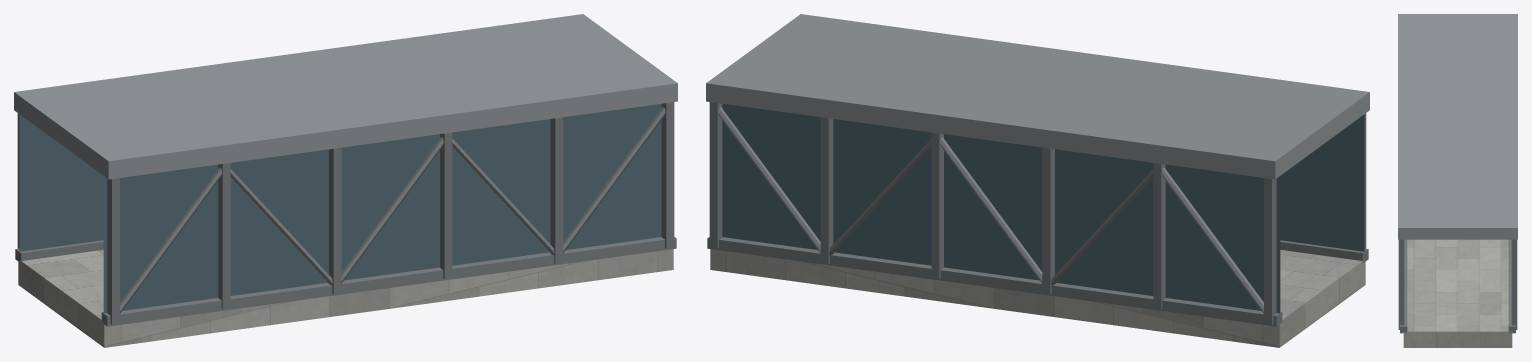
The picture shows the model from 3 angles, left to right: view 1: azimuth 30°, elevation 25°; view 2: azimuth 150°, elevation 25°; view 3: azimuth 270°, elevation 25°; orthographic projection. The views are drawn at different scales.
Parts seen in each view (by area): view 1: scienceLibrary-aegineung__glass, scienceLibrary-aegineung__roofing, scienceLibrary-aegineung__frame, scienceLibrary-aegineung__deck; view 2: scienceLibrary-aegineung__glass, scienceLibrary-aegineung__roofing, scienceLibrary-aegineung__frame, scienceLibrary-aegineung__deck; view 3: scienceLibrary-aegineung__roofing, scienceLibrary-aegineung__deck, scienceLibrary-aegineung__frame.
Boxes of the visible parts, x1,y1,x2,y2 form: scienceLibrary-aegineung__glass: (19, 103, 661, 313); scienceLibrary-aegineung__roofing: (14, 14, 677, 179); scienceLibrary-aegineung__frame: (15, 102, 676, 326); scienceLibrary-aegineung__deck: (18, 249, 673, 347); scienceLibrary-aegineung__glass: (722, 103, 1364, 313); scienceLibrary-aegineung__roofing: (706, 14, 1369, 179); scienceLibrary-aegineung__frame: (707, 102, 1368, 326); scienceLibrary-aegineung__deck: (710, 249, 1365, 347); scienceLibrary-aegineung__roofing: (1398, 14, 1517, 239); scienceLibrary-aegineung__deck: (1403, 239, 1512, 347); scienceLibrary-aegineung__frame: (1398, 239, 1517, 333).
Size of the model in its own units: 11.46 by 4.82 by 3.3.
Materials: 4 (1 with a texture image).
